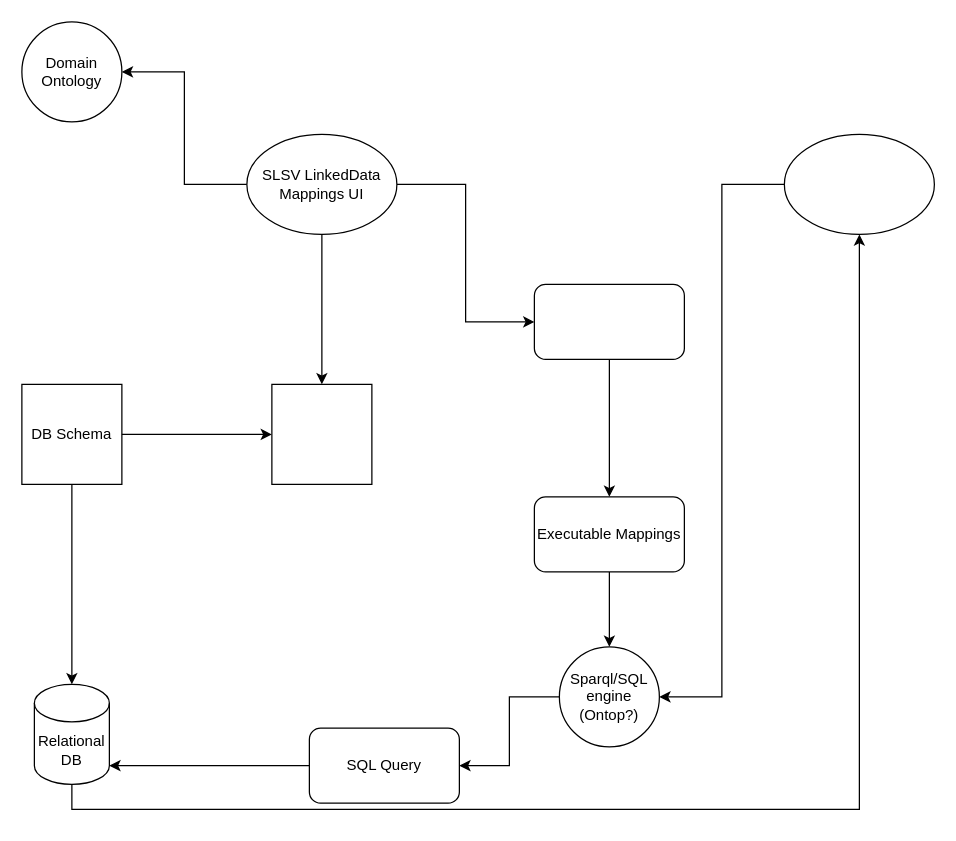
This 956x841 diagram has some shape labels left out. Here are the shapes that lost their labels. From the top down, the centre of each, then its label:
At (x=858, y=183): "SLSV LinkedData Sparql UI".
At (x=608, y=321): "Mapping Triples".
At (x=321, y=433): "DataModel Graph".
